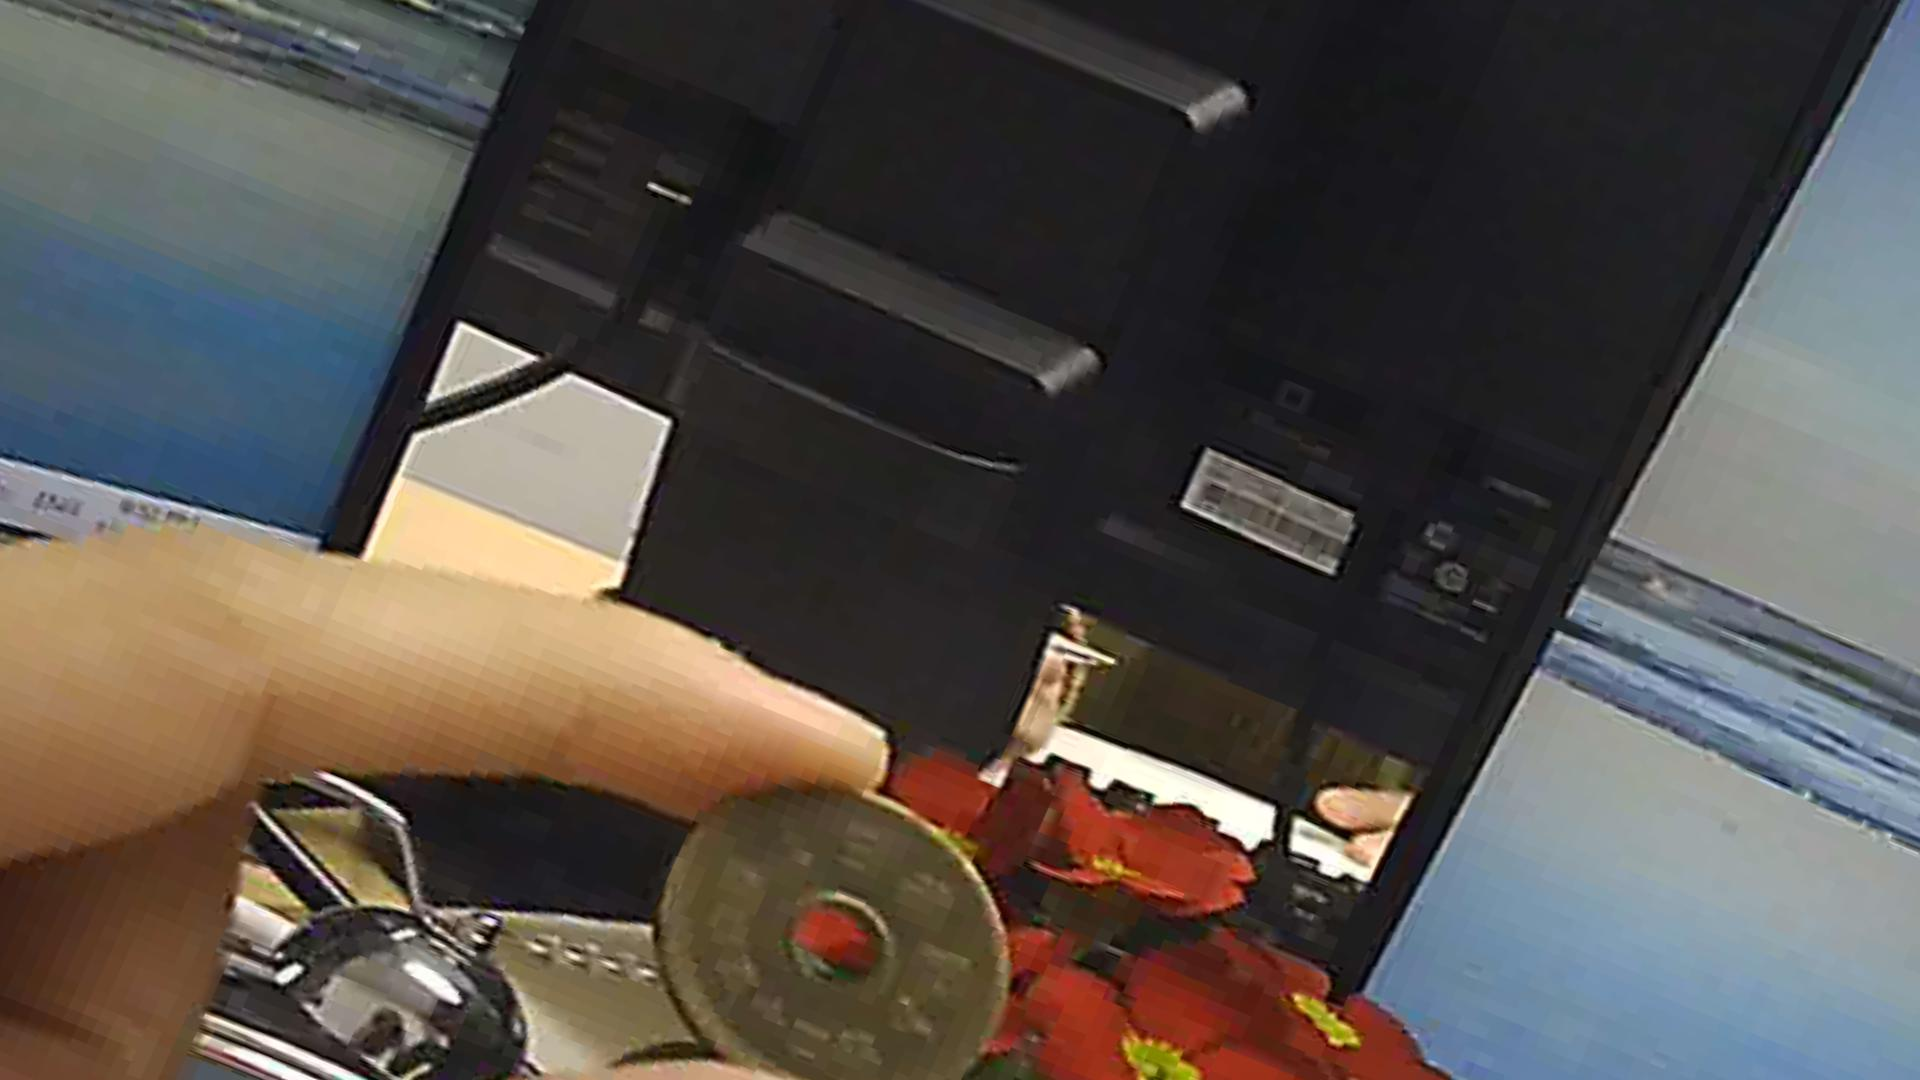5 Yen: (651, 775, 1023, 1069)
